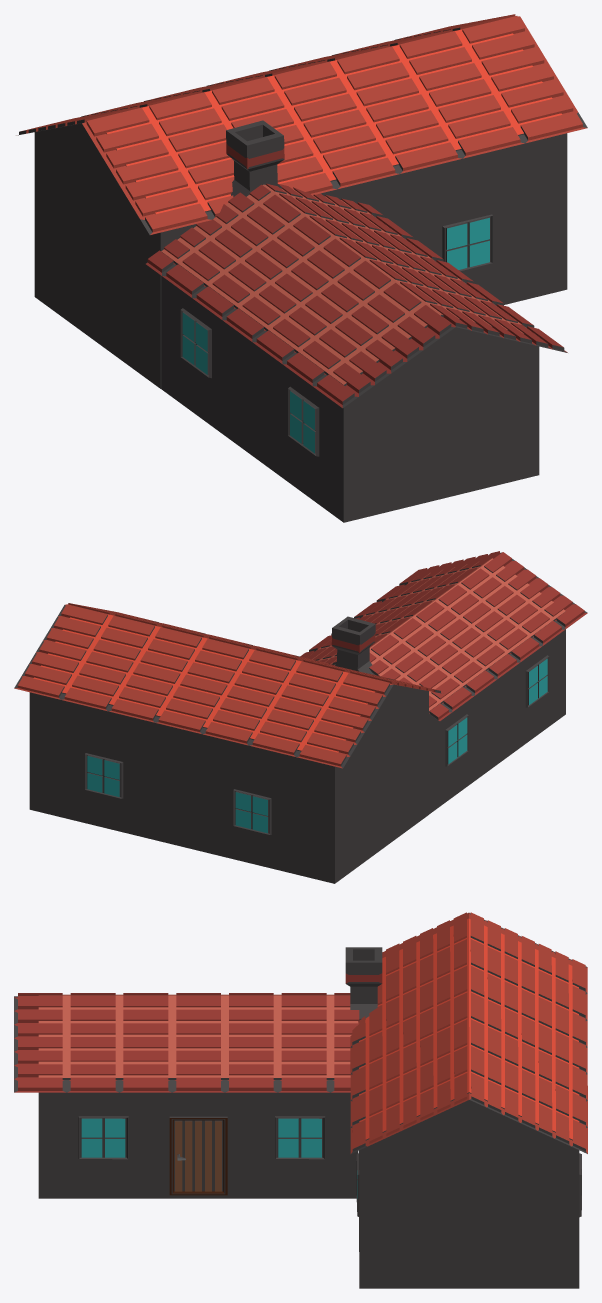
The model's file is 2house.glb.
3 views of the same model, one above another, from view 1: azimuth 30°, elevation 25°; view 2: azimuth 150°, elevation 25°; view 3: azimuth 270°, elevation 25° (orthographic). The views are drawn at different scales.
Visible parts, largest first — view 1: Plane.001; view 2: Plane.001; view 3: Plane.001.
Boxes of the visible parts, bbox=[...] form: Plane.001: bbox=[16, 14, 587, 522]; Plane.001: bbox=[14, 551, 587, 883]; Plane.001: bbox=[14, 912, 587, 1288].
Bounding box in the file's own units: 4.03 × 2.02 × 5.21.
